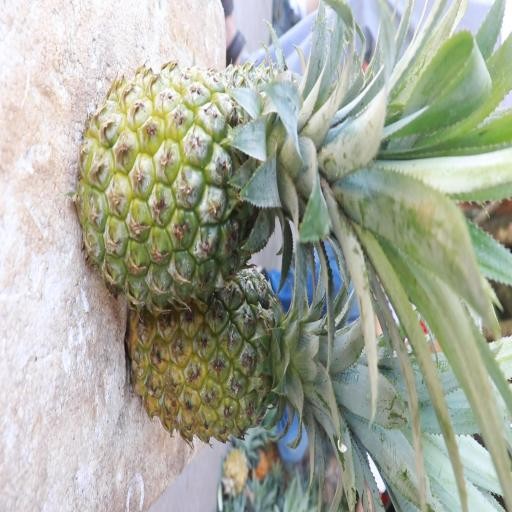------------------------------: (84, 64, 338, 300)
Pineapple - v8 v1: (127, 256, 337, 442)
